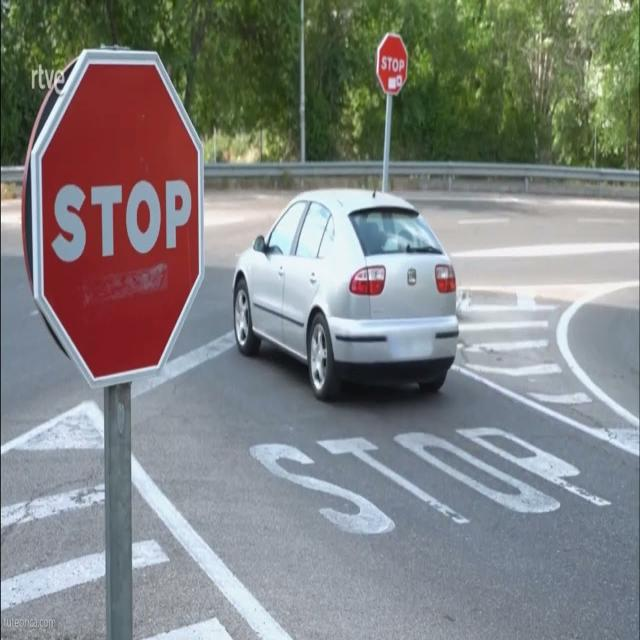STOP: (42, 62, 201, 377)
